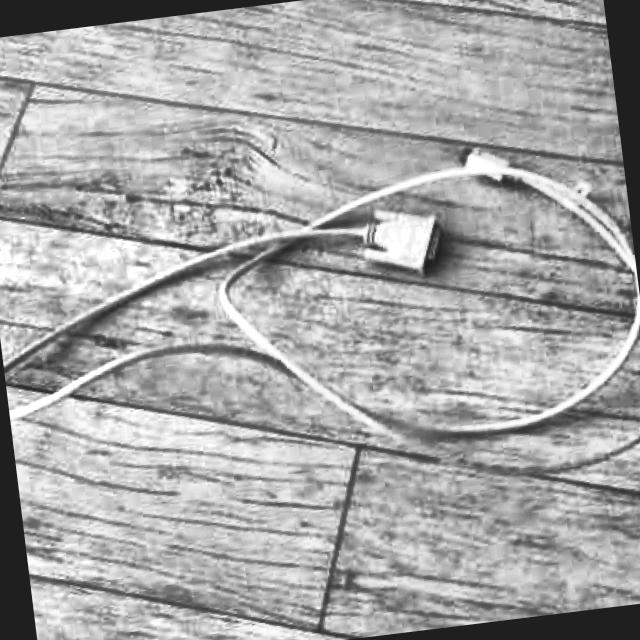Cable: (0, 130, 640, 539)
